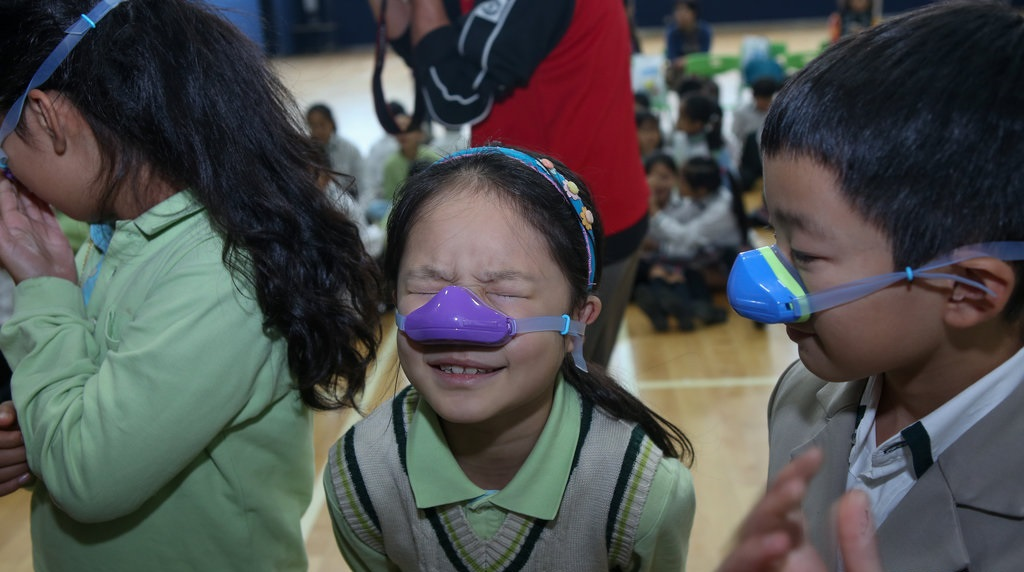face: (765, 154, 945, 385), (394, 205, 569, 424)
